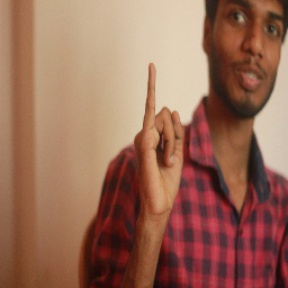I: (131, 63, 194, 210)
